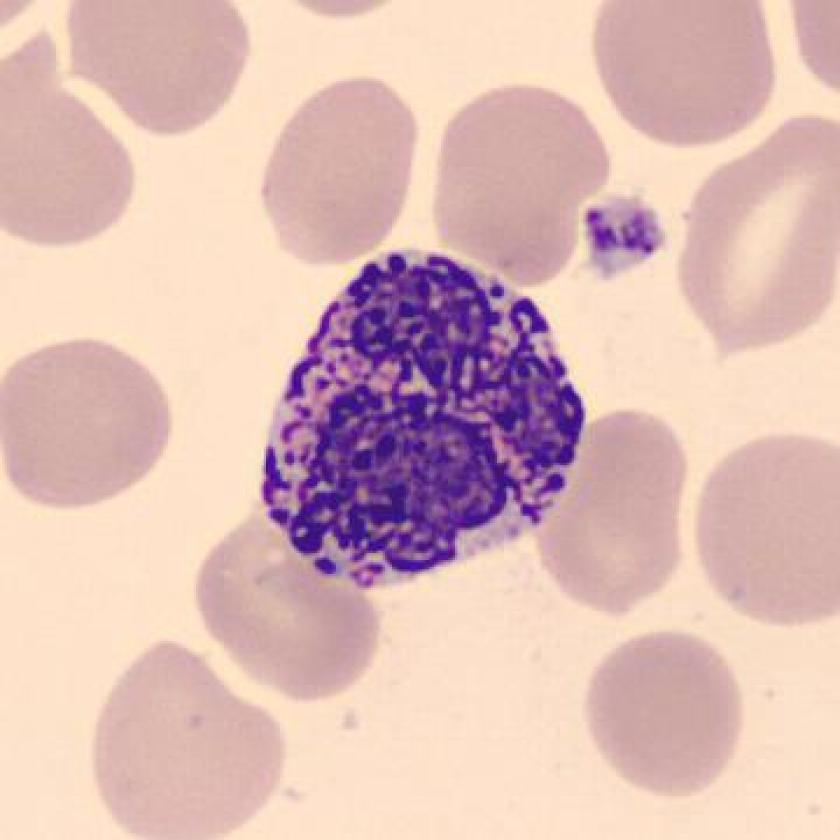basophil: (260, 244, 582, 586)
